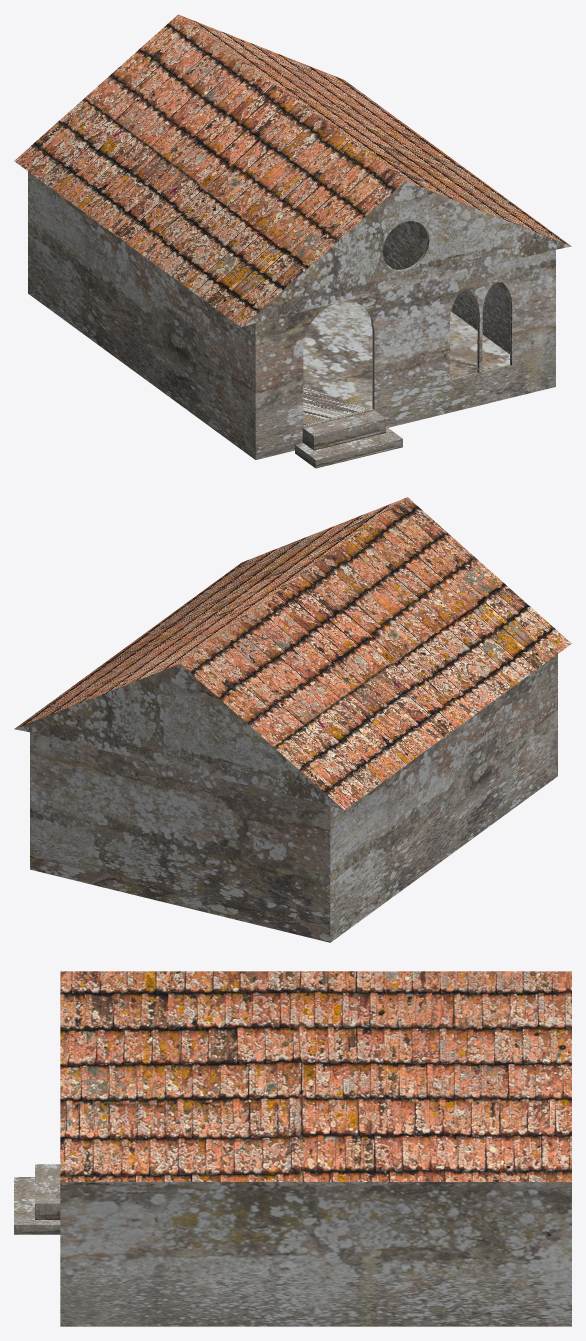
File: cemetery_house2.fbx
3 renders of one model, top to bottom at view 1: azimuth 30°, elevation 25°; view 2: azimuth 150°, elevation 25°; view 3: azimuth 270°, elevation 25°, orthographic. The views are drawn at different scales.
Parts seen in each view (by area): view 1: pCube10; view 2: pCube10; view 3: pCube10.
Part boxes in pixels (x1,y1,x2,y2): pCube10: (14,14,571,468); pCube10: (14,497,571,942); pCube10: (14,971,571,1326).
Bounding box in the file's own units: 26.15 × 18.57 × 34.01.
2 materials, 2 textured.
